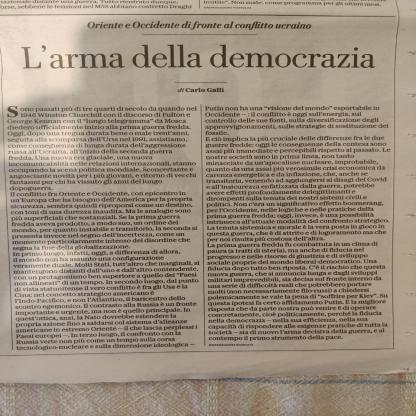testo_col: (1, 101, 204, 355), (202, 99, 395, 343)
titolo: (11, 40, 382, 76)
